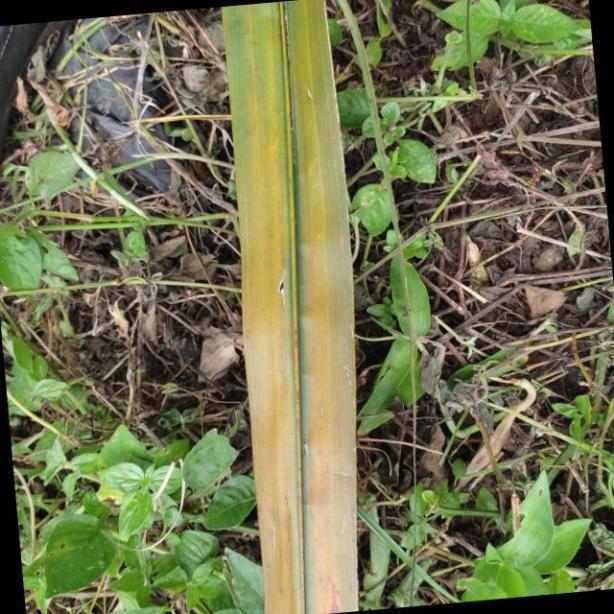Megnesium: (221, 7, 358, 614)
